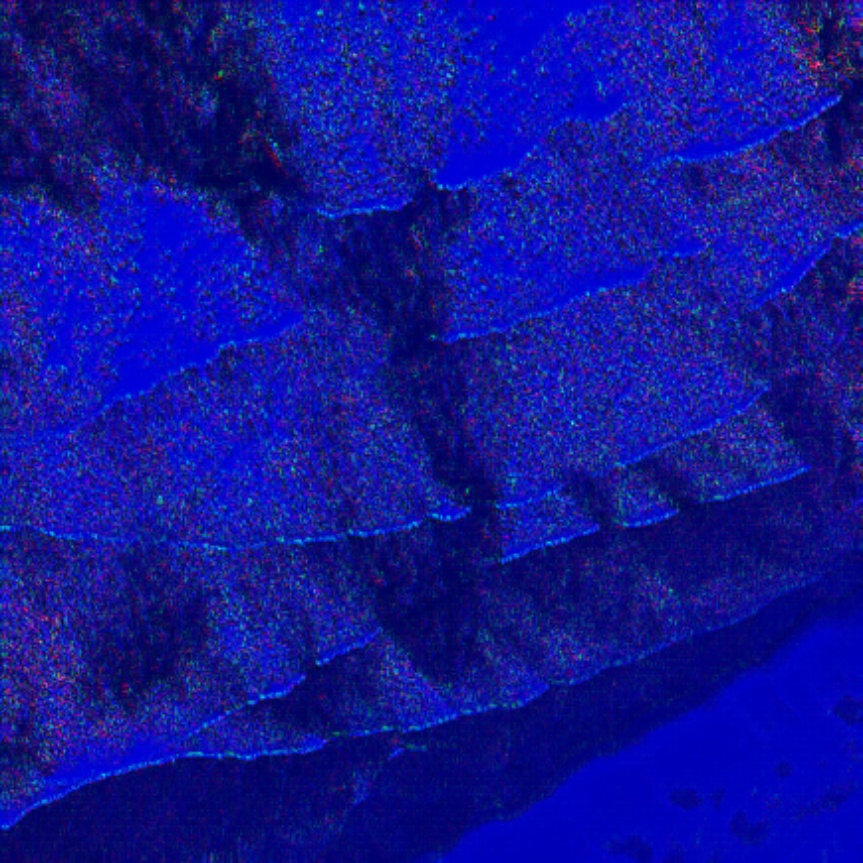rip_current: (247, 148, 545, 691)
